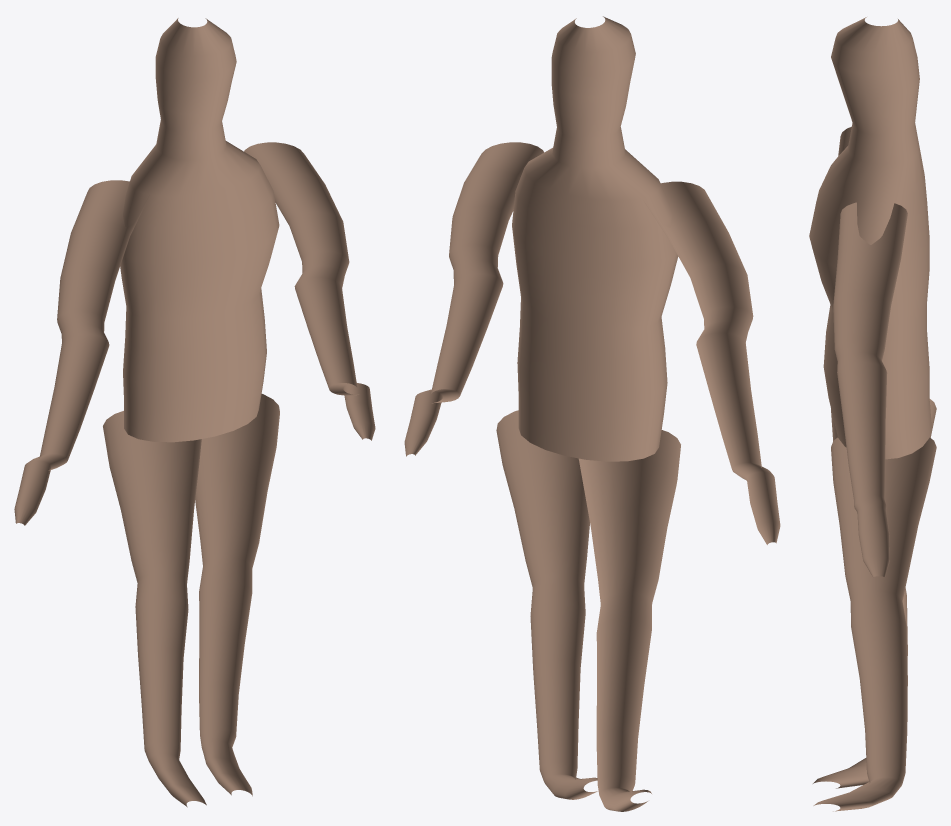
Rendered from female.glb.
The picture shows the model from 3 angles, left to right: view 1: azimuth 30°, elevation 25°; view 2: azimuth 150°, elevation 25°; view 3: azimuth 270°, elevation 25°; orthographic projection. The views are drawn at different scales.
Parts seen in each view (by area): view 1: Body; view 2: Body; view 3: Body.
Part boxes in pixels (x1,y1,x2,y2): Body: [14, 18, 375, 807]; Body: [404, 16, 780, 811]; Body: [809, 17, 936, 811].
Bounding box in the file's own units: 0.8434 × 1.72 × 0.2557.
